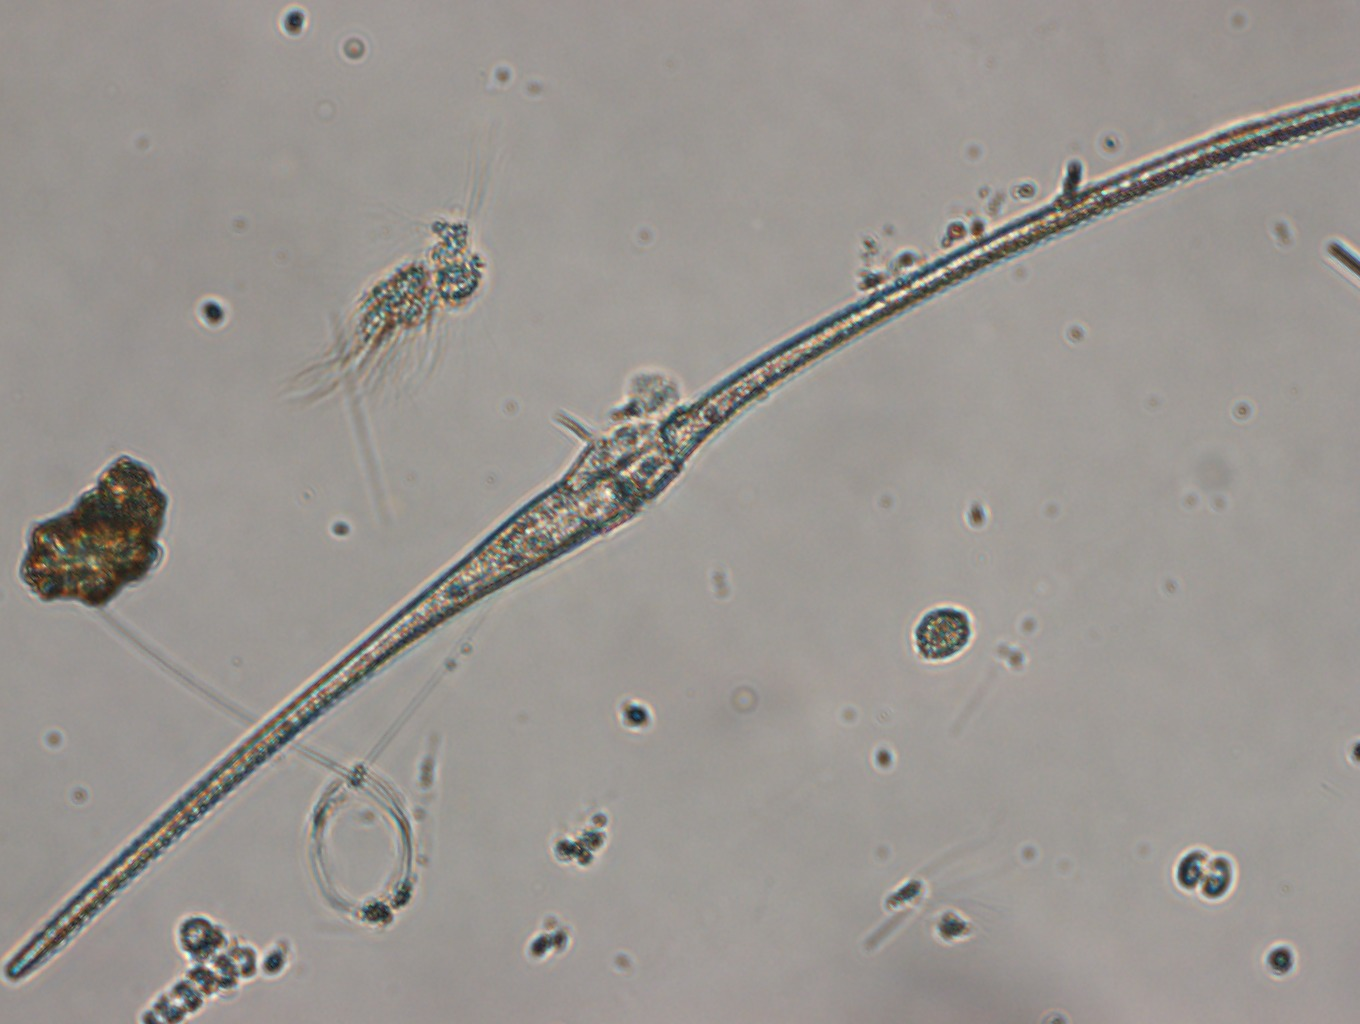ceratium fusus: (22, 67, 1360, 975)
